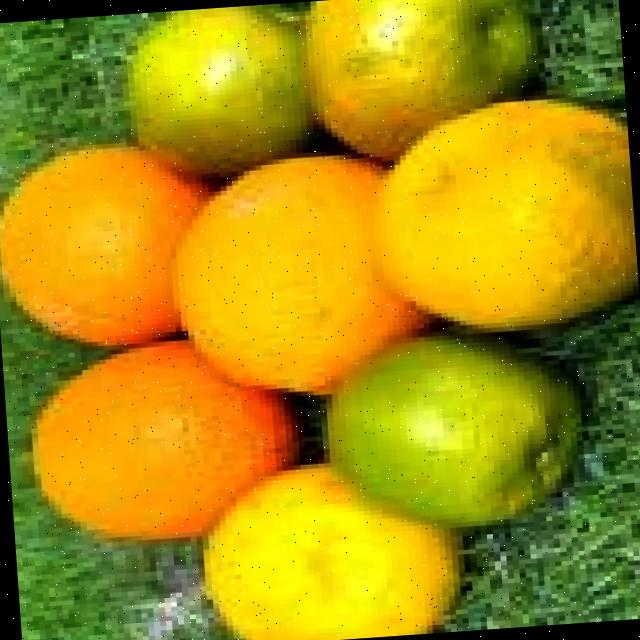Good_Orange-15-21 days: (2, 0, 639, 640)
